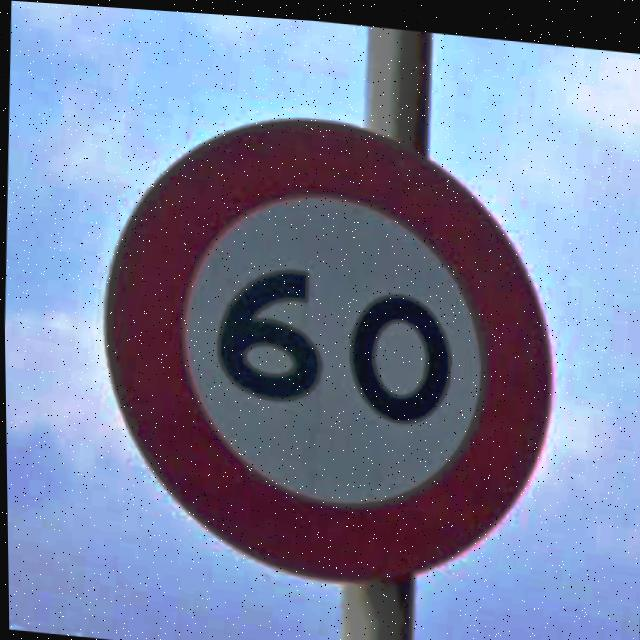max60: (90, 92, 565, 596)
